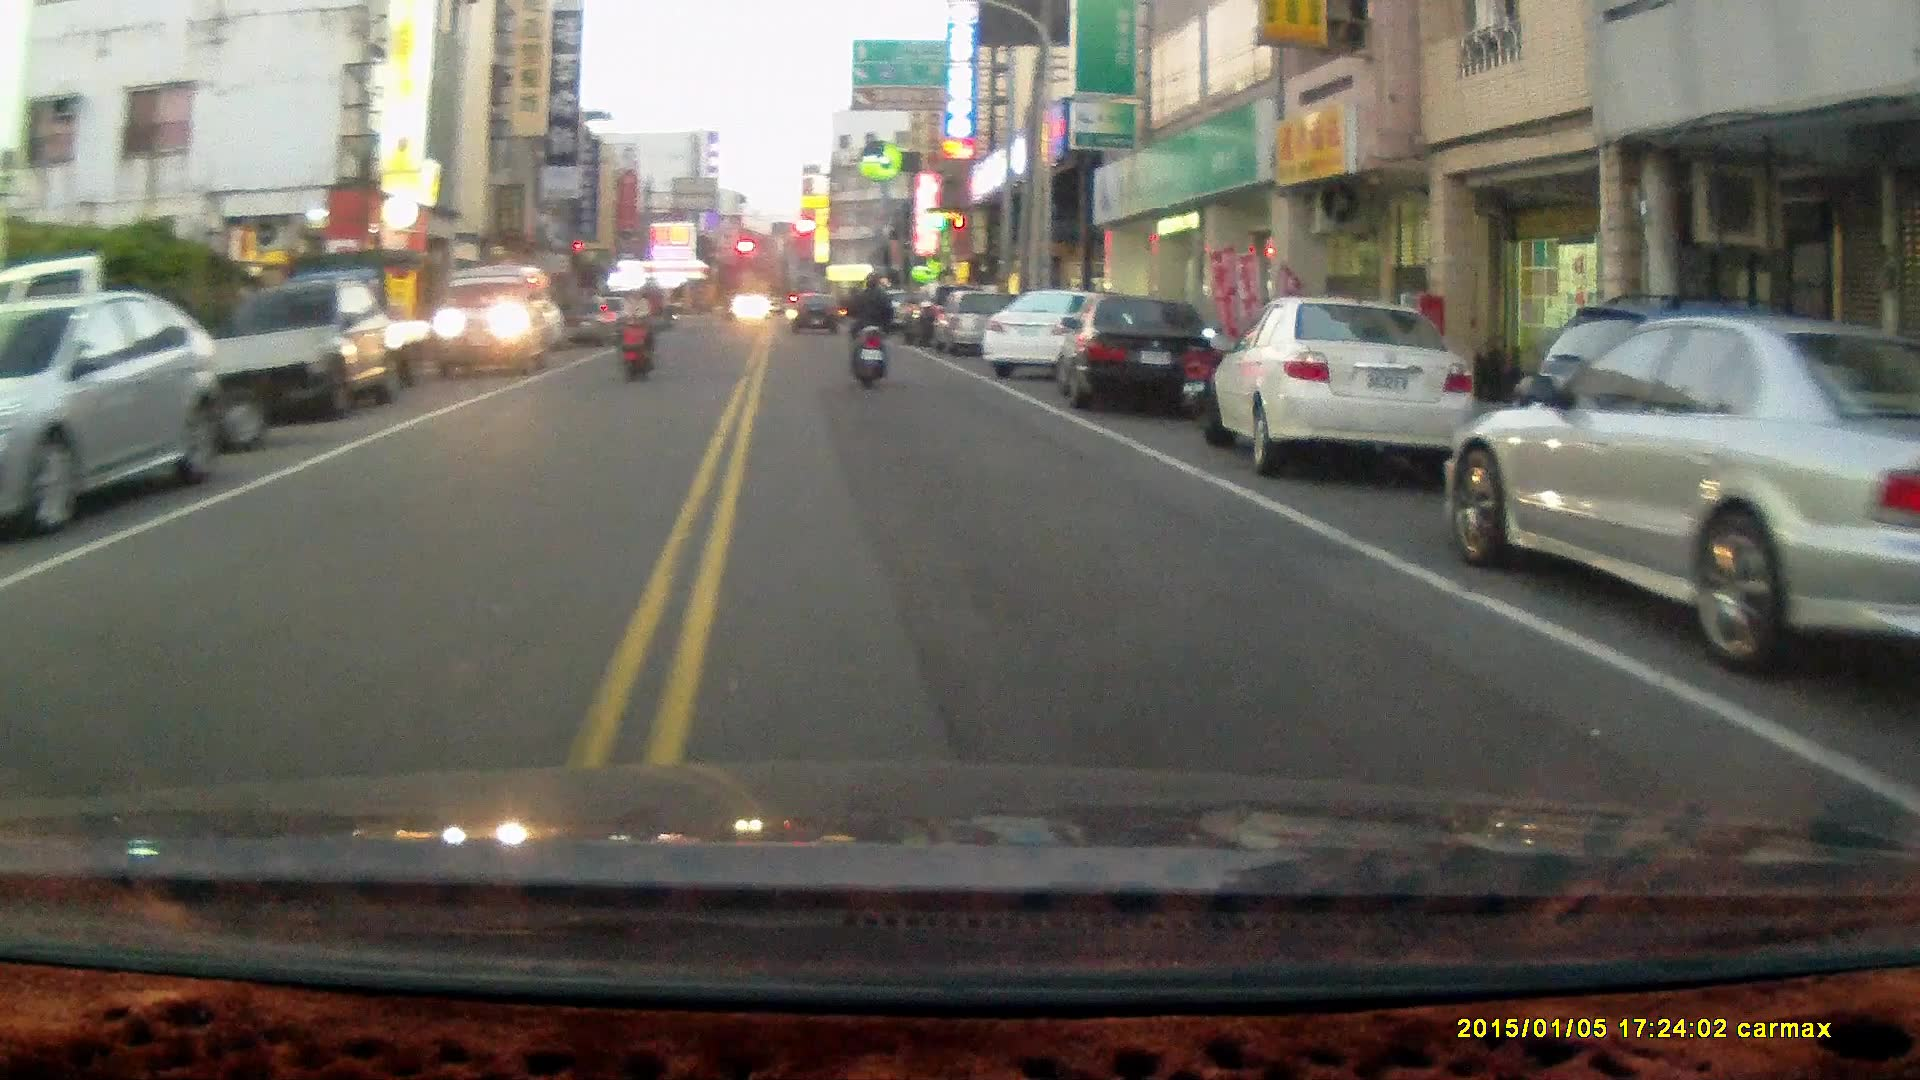rider: (845, 273, 892, 390), (620, 281, 660, 387)
vehicle: (1446, 311, 1920, 673), (1, 290, 217, 544), (1208, 297, 1488, 476), (219, 277, 390, 420), (1059, 294, 1223, 415), (980, 286, 1141, 381), (438, 262, 560, 380), (930, 288, 1032, 356)
